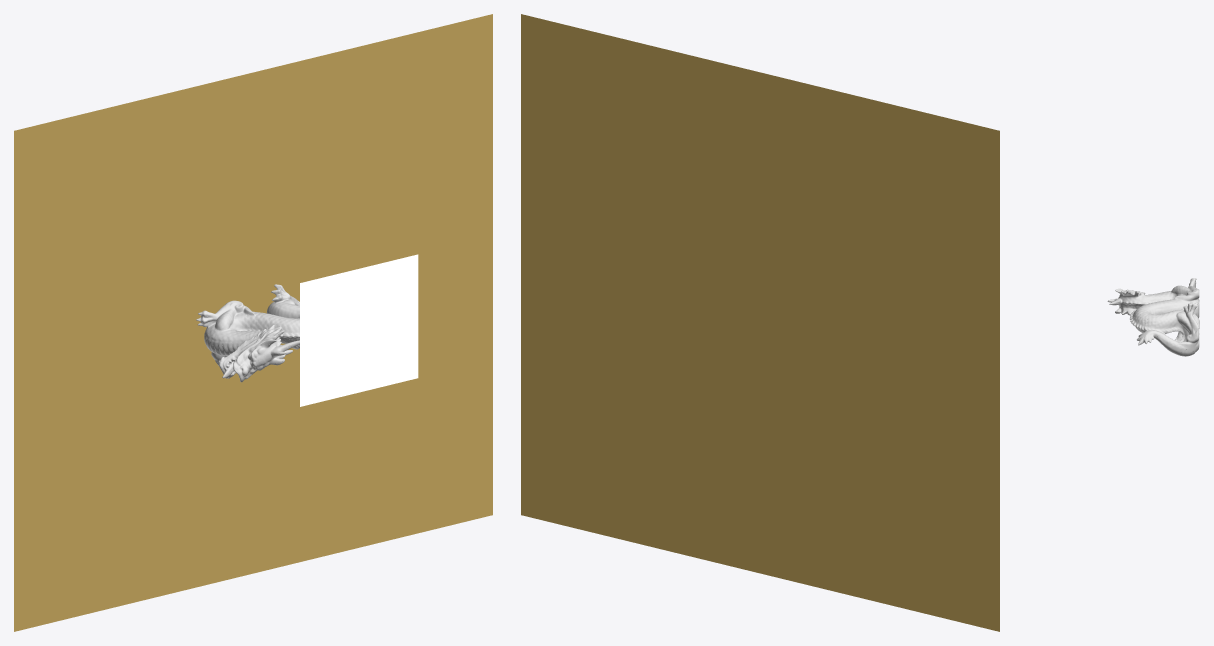
The model's file is dragon.gltf.
3 views of the same model, side by side, from view 1: azimuth 30°, elevation 25°; view 2: azimuth 150°, elevation 25°; view 3: azimuth 270°, elevation 25° (orthographic). The views are drawn at different scales.
Visible parts, largest first — view 1: Plane, Plane.001, Dragon; view 2: Plane; view 3: Dragon.
Boxes of the visible parts, x1=… form: Plane: x1=14, y1=14, x2=492, y2=631; Plane.001: x1=300, y1=254, x2=418, y2=406; Dragon: x1=196, y1=284, x2=299, y2=382; Plane: x1=521, y1=14, x2=999, y2=631; Dragon: x1=1107, y1=278, x2=1199, y2=356.
Size of the model in its own units: 0.732 by 0.732 by 0.2694.
